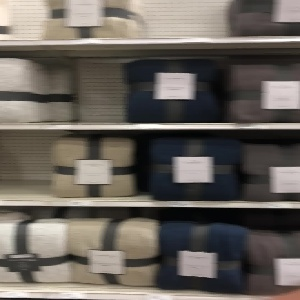void: (66, 55, 122, 122), (139, 1, 228, 41), (1, 131, 51, 199), (5, 1, 44, 42)
